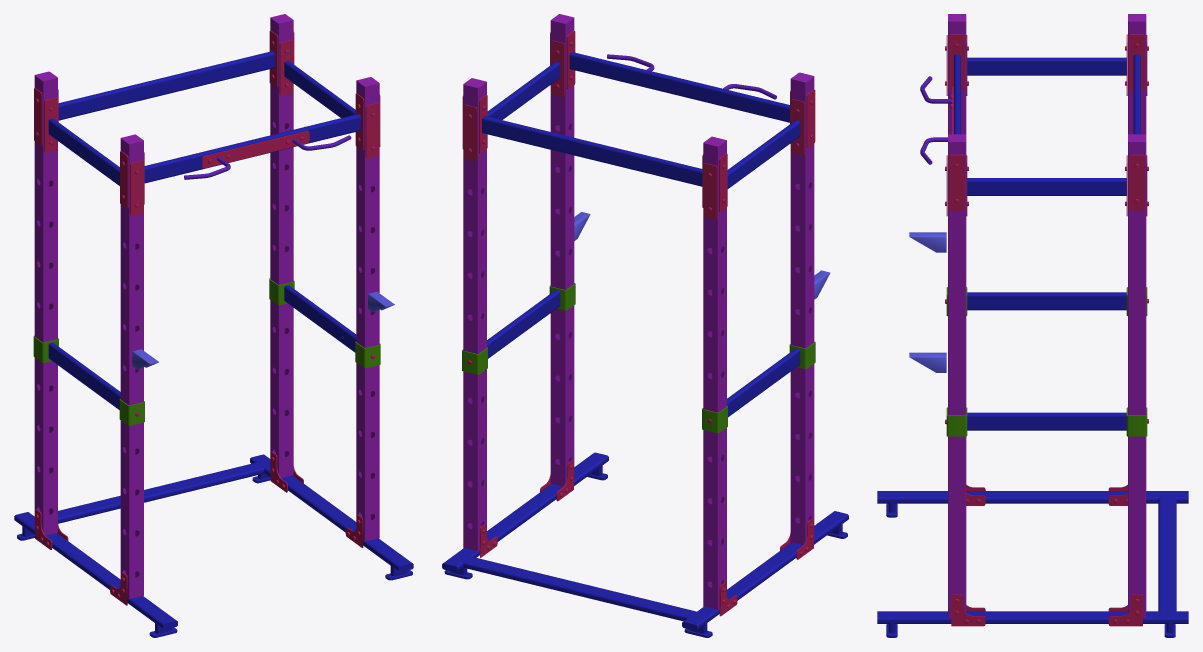
The model's file is POWER RACK.obj.
3 renders of one model, left to right at view 1: azimuth 30°, elevation 25°; view 2: azimuth 150°, elevation 25°; view 3: azimuth 270°, elevation 25°, orthographic. The views are drawn at different scales.
Parts seen in each view (by area): view 1: Box002, Box003, Object062, Object076, Object075, Object065, Object072, Object063, Object071, Object073, Object077, Object066 (+3 smaller); view 2: Box002, Box003, Object062, Object076, Object075, Object072, Object065, Object073, Object071, Object063, Object066, Shape013 (+1 smaller); view 3: Box003, Object062, Object071, Object063, Object073, Object066, Object065, Box002, Object072, Shape014, Object068, Object067 (+5 smaller).
Part boxes in pixels (<box>): Box002: <box>34,71,143,598</box>; Box003: <box>270,14,379,541</box>; Object062: <box>14,454,413,637</box>; Object076: <box>58,51,274,120</box>; Object075: <box>144,114,360,183</box>; Object065: <box>269,30,380,358</box>; Object072: <box>34,88,144,416</box>; Object063: <box>284,285,356,352</box>; Object071: <box>48,342,120,409</box>; Object073: <box>48,118,119,185</box>; Object077: <box>202,130,309,168</box>; Object066: <box>284,61,355,117</box>; Box002: <box>703,72,814,609</box>; Box003: <box>463,14,574,550</box>; Object062: <box>442,452,848,637</box>; Object076: <box>482,116,702,186</box>; Object075: <box>569,52,789,122</box>; Object072: <box>702,89,815,423</box>; Object065: <box>462,31,575,364</box>; Object073: <box>727,120,800,188</box>; Object071: <box>727,348,800,417</box>; Object063: <box>487,290,560,358</box>; Object066: <box>487,61,560,119</box>; Shape013: <box>702,341,815,433</box>; Box003: <box>948,134,1146,617</box>; Object062: <box>877,491,1188,637</box>; Object071: <box>967,292,1126,310</box>; Object063: <box>967,412,1126,430</box>; Object073: <box>967,57,1126,75</box>; Object066: <box>967,178,1126,195</box>; Object065: <box>945,154,1148,424</box>; Box002: <box>948,14,1146,134</box>; Object072: <box>945,34,1148,303</box>; Shape014: <box>946,407,1147,436</box>; Object068: <box>1108,591,1142,626</box>; Object067: <box>951,591,985,626</box>.
Size of the model in its own units: 1.37 by 2.38 by 1.36.
